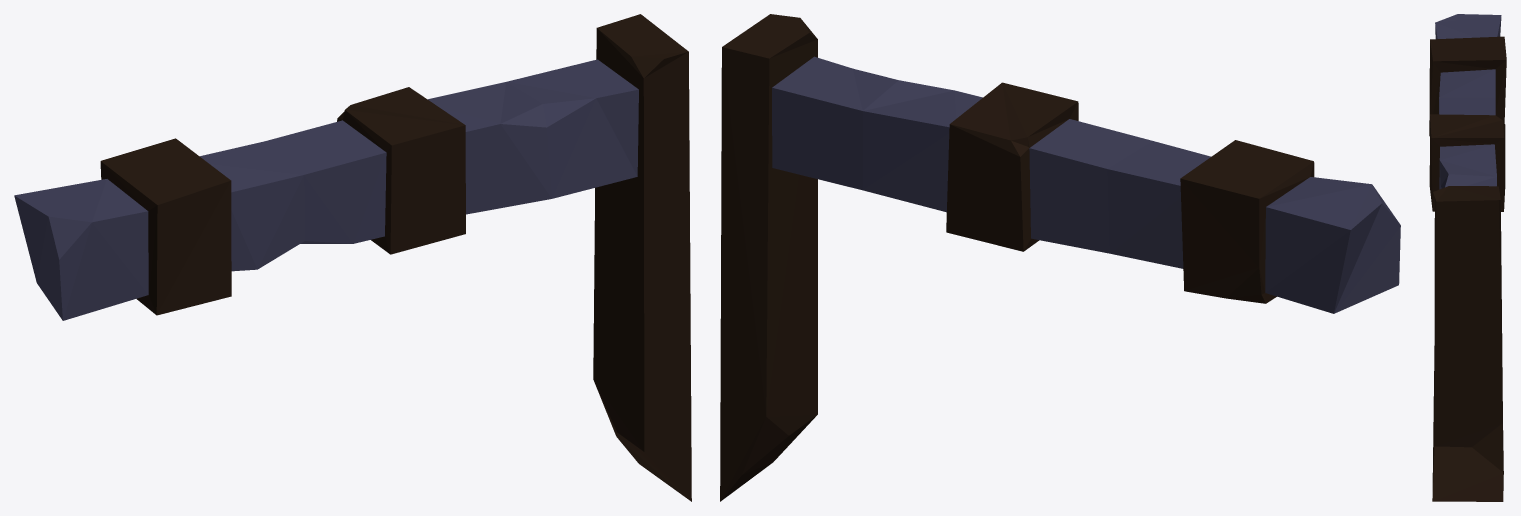
The model's file is SFFA_Building_SignSupport.fbx.
The picture shows the model from 3 angles, left to right: view 1: azimuth 30°, elevation 25°; view 2: azimuth 150°, elevation 25°; view 3: azimuth 270°, elevation 25°; orthographic projection. The views are drawn at different scales.
Visible parts, largest first — view 1: SFFA_Building_SignSupport; view 2: SFFA_Building_SignSupport; view 3: SFFA_Building_SignSupport.
Part boxes in pixels (x1=…): SFFA_Building_SignSupport: x1=14, y1=14, x2=691, y2=501; SFFA_Building_SignSupport: x1=720, y1=14, x2=1400, y2=501; SFFA_Building_SignSupport: x1=1429, y1=14, x2=1506, y2=501.
Size of the model in its own units: 148 by 102 by 23.65.
